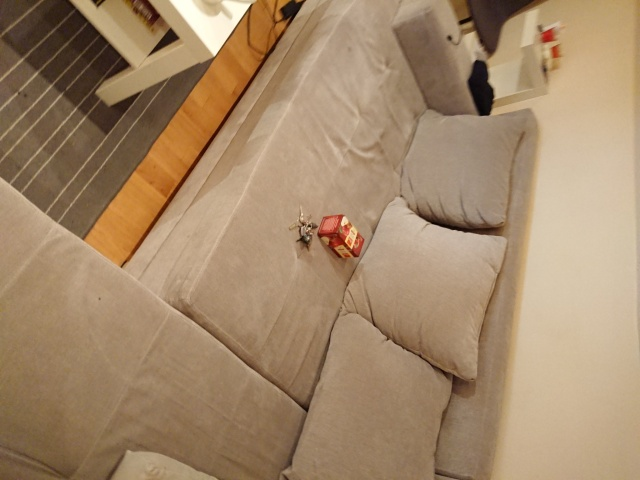Franck Apple Cinnamon Tea 60g: (315, 212, 366, 260)
